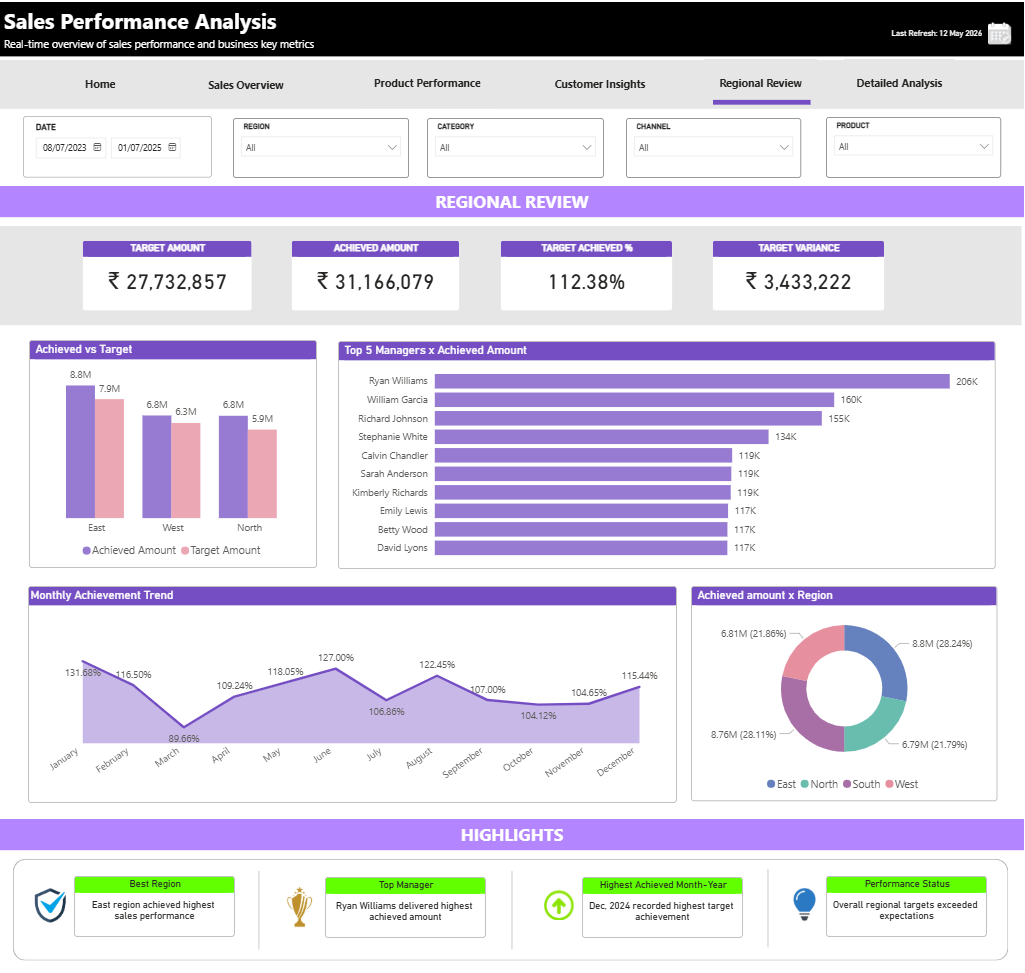

Layout of this report page (visuals, bound fields, positions):
{"tool":"powerbi","page":{"name":"Regional Target","canvas":[1280,1200],"ordinal":4},"visuals":[{"type":"textbox","box":[0.5,280.4,1276.7,124],"z":0},{"type":"textbox","box":[0,0,1280.2,68.2],"z":1000},{"type":"slicer","fields":{"Values":["Merge1.SaleDate"]},"box":[28.6,142.9,236,77.5],"z":2000},{"type":"slicer","fields":{"Values":["Products.Category"]},"box":[534,145,221,75],"z":3000},{"type":"textbox","box":[0,230.1,1280.2,39.3],"z":4000},{"type":"textbox","box":[0,39,585,36],"z":5000},{"type":"card","title":"ACHIEVED AMOUNT","fields":{"Values":["Regional Target.Total Achieved"]},"box":[364,297,211,89],"z":6000},{"type":"card","title":"TARGET AMOUNT","fields":{"Values":["Regional Target.Total Target"]},"box":[103,298,213,89],"z":7000},{"type":"card","title":"TARGET ACHIEVED %","fields":{"Values":["Regional Target.Target Achievement %"]},"box":[625,297,216,89],"z":8000},{"type":"card","title":"TARGET VARIANCE","fields":{"Values":["Regional Target.Target Variance"]},"box":[890,297,216,89],"z":9000},{"type":"image","box":[1229.8,19.9,38.8,37.8],"z":10000},{"type":"slicer","fields":{"Values":["Regional Target.Region"]},"box":[291,145,220,75],"z":11000},{"type":"slicer","fields":{"Values":["Merge1.SalesChannel"]},"box":[782,145,219,75],"z":12000},{"type":"clusteredBarChart","title":"Top 5 Managers x Achieved Amount","fields":{"Category":["Regional Target.Manager"],"Y":["Sum(Regional Target.AchievedAmount)"]},"box":[422.1,423.2,822.1,285.3],"z":13000},{"type":"clusteredColumnChart","title":"Achieved vs Target","fields":{"Category":["Regional Target.Region"],"Y":["Sum(Regional Target.AchievedAmount)","Sum(Regional Target.TargetAmount)"]},"box":[36,423,360,285],"z":14000},{"type":"shape","title":"Monthly Achievement Trend","box":[34.6,729.5,810.6,270.6],"z":15000},{"type":"lineChart","title":"Sales x Month","fields":{"Y":["Regional Target.Target Achievement %"],"Category":["Regional Target.Month.Variation.Date Hierarchy.Month"]},"box":[50.1,793.9,779.6,197.9],"z":16000},{"type":"slicer","fields":{"Values":["Products.ProductName"]},"box":[1032,144,219,76],"z":17000},{"type":"textbox","box":[0,72,1398.9,61.1],"z":18000},{"type":"shape","title":"Detailed Creative Line","box":[236.7,110.3,146.6,35.8],"z":19000},{"type":"actionButton","title":"Detailed Creative Button","box":[219.3,74.5,177.1,57.2],"z":20000},{"type":"shape","title":"Detailed Creative Line","box":[1063.3,105.4,122,39.4],"z":21000},{"type":"actionButton","title":"Detailed Creative Button","box":[1055,71.2,138.5,58.7],"z":22000},{"type":"shape","title":"Detailed Creative Line","box":[681.2,109.1,144.4,36.7],"z":23000},{"type":"actionButton","title":"Detailed Creative Button","box":[664.6,72.4,170,58.9],"z":24000},{"type":"actionButton","title":"Detailed Creative Button","box":[879.9,71.2,141.4,59.6],"z":25000},{"type":"shape","title":"Detailed Creative Line","box":[890.8,106.6,122,38.2],"z":26000},{"type":"shape","title":"Detailed Creative Line","box":[449.8,105.4,170,37],"z":27000},{"type":"actionButton","title":"Detailed Creative Button","box":[442.3,72.3,183.3,56.7],"z":28000},{"type":"shape","title":"Detailed Creative Line","box":[76.7,109.1,105.9,35.6],"z":29000},{"type":"actionButton","title":"Detailed Creative Button","box":[61.5,72.1,127.9,58.7],"z":30000},{"type":"card","fields":{"Values":["Merge1.Last Refresh Date"]},"box":[1095.6,27.2,151.8,27.2],"z":31000},{"type":"donutChart","title":"Achieved amount x Region","fields":{"Y":["Sum(Regional Target.AchievedAmount)"],"Series":["Regional Target.Region"]},"box":[863.2,729.5,383.2,269.5],"z":32000},{"type":"textbox","box":[0,1021,1280,39],"z":33000},{"type":"shape","box":[16,1071,1244,127],"z":34000},{"type":"shape","box":[292,1086,62,98],"z":35000},{"type":"shape","box":[609.1,1085.7,62.4,97.8],"z":36000},{"type":"shape","box":[928.2,1083.3,62.4,97.8],"z":37000},{"type":"image","box":[980,1103,52,52],"z":40000},{"type":"image","box":[36,1097,62,63],"z":41000},{"type":"card","title":"Best Region","fields":{"Values":["Regional Target.Best Region Insight"]},"box":[93,1093,201,76],"z":42000},{"type":"card","title":"Performance Status","fields":{"Values":["Regional Target.Performance Status"]},"box":[1032,1093,201,76],"z":43000},{"type":"card","title":"Highest Achieved Month-Year","fields":{"Values":["Regional Target.Best Achievement Month"]},"box":[727,1094,201,76],"z":44000},{"type":"card","title":"Top Manager","fields":{"Values":["Regional Target.Top Manager Insight"]},"box":[406,1094,201,76],"z":45000},{"type":"image","box":[344,1099,64,65],"z":46000},{"type":"image","box":[675,1102,47,53],"z":47000}]}

Visuals, with their boxes in screenshot pixels (x1, y1, x2, y2), scaled from the page's 1280x1200 canvas onto the 1025x973 screenshot:
textbox: x1=0 y1=227 x2=1023 y2=328
textbox: x1=0 y1=0 x2=1024 y2=55
slicer - Merge1.SaleDate: x1=23 y1=116 x2=212 y2=179
slicer - Products.Category: x1=428 y1=118 x2=605 y2=178
textbox: x1=0 y1=187 x2=1024 y2=218
textbox: x1=0 y1=32 x2=468 y2=61
"ACHIEVED AMOUNT" card: x1=291 y1=241 x2=460 y2=313
"TARGET AMOUNT" card: x1=82 y1=242 x2=253 y2=314
"TARGET ACHIEVED %" card: x1=500 y1=241 x2=673 y2=313
"TARGET VARIANCE" card: x1=713 y1=241 x2=886 y2=313
image: x1=985 y1=16 x2=1016 y2=47
slicer - Regional Target.Region: x1=233 y1=118 x2=409 y2=178
slicer - Merge1.SalesChannel: x1=626 y1=118 x2=802 y2=178
"Top 5 Managers x Achieved Amount" clusteredBarChart: x1=338 y1=343 x2=996 y2=574
"Achieved vs Target" clusteredColumnChart: x1=29 y1=343 x2=317 y2=574
"Monthly Achievement Trend" shape: x1=28 y1=592 x2=677 y2=811
"Sales x Month" lineChart: x1=40 y1=644 x2=664 y2=804
slicer - Products.ProductName: x1=826 y1=117 x2=1002 y2=178
textbox: x1=0 y1=58 x2=1024 y2=108
"Detailed Creative Line" shape: x1=190 y1=89 x2=307 y2=118
"Detailed Creative Button" actionButton: x1=176 y1=60 x2=317 y2=107
"Detailed Creative Line" shape: x1=851 y1=85 x2=949 y2=117
"Detailed Creative Button" actionButton: x1=845 y1=58 x2=956 y2=105
"Detailed Creative Line" shape: x1=545 y1=88 x2=661 y2=118
"Detailed Creative Button" actionButton: x1=532 y1=59 x2=668 y2=106
"Detailed Creative Button" actionButton: x1=705 y1=58 x2=818 y2=106
"Detailed Creative Line" shape: x1=713 y1=86 x2=811 y2=117
"Detailed Creative Line" shape: x1=360 y1=85 x2=496 y2=115
"Detailed Creative Button" actionButton: x1=354 y1=59 x2=501 y2=105
"Detailed Creative Line" shape: x1=61 y1=88 x2=146 y2=117
"Detailed Creative Button" actionButton: x1=49 y1=58 x2=152 y2=106
card - Merge1.Last Refresh Date: x1=877 y1=22 x2=999 y2=44
"Achieved amount x Region" donutChart: x1=691 y1=592 x2=998 y2=810
textbox: x1=0 y1=828 x2=1024 y2=859
shape: x1=13 y1=868 x2=1009 y2=971
shape: x1=234 y1=881 x2=283 y2=960
shape: x1=488 y1=880 x2=538 y2=960
shape: x1=743 y1=878 x2=793 y2=958
image: x1=785 y1=894 x2=826 y2=937
image: x1=29 y1=889 x2=78 y2=941
"Best Region" card: x1=74 y1=886 x2=235 y2=948
"Performance Status" card: x1=826 y1=886 x2=987 y2=948
"Highest Achieved Month-Year" card: x1=582 y1=887 x2=743 y2=949
"Top Manager" card: x1=325 y1=887 x2=486 y2=949
image: x1=275 y1=891 x2=327 y2=944
image: x1=541 y1=894 x2=578 y2=937
